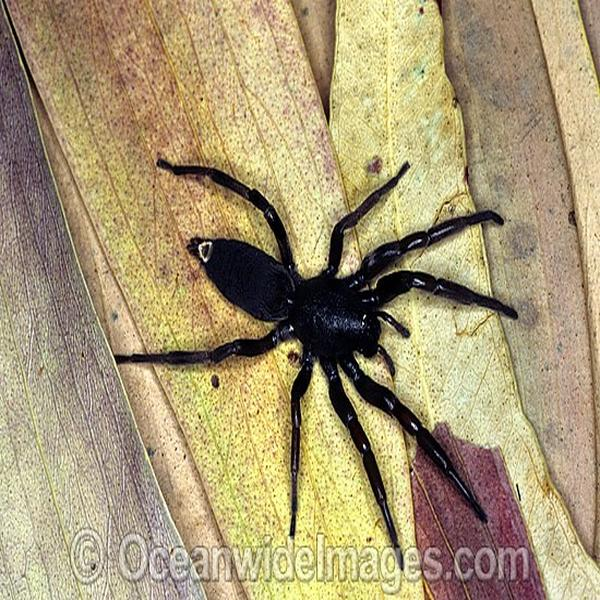White-Tailed Spider: (122, 156, 507, 542)
